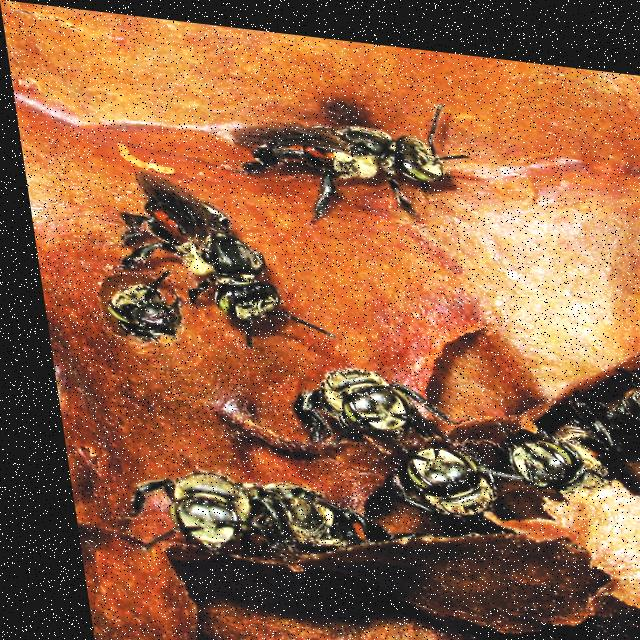Meliponula: (84, 162, 347, 351), (210, 69, 495, 228), (107, 453, 265, 565), (226, 463, 385, 574), (269, 350, 447, 444), (366, 422, 510, 519), (491, 391, 625, 491), (74, 259, 188, 354), (609, 344, 640, 439)
